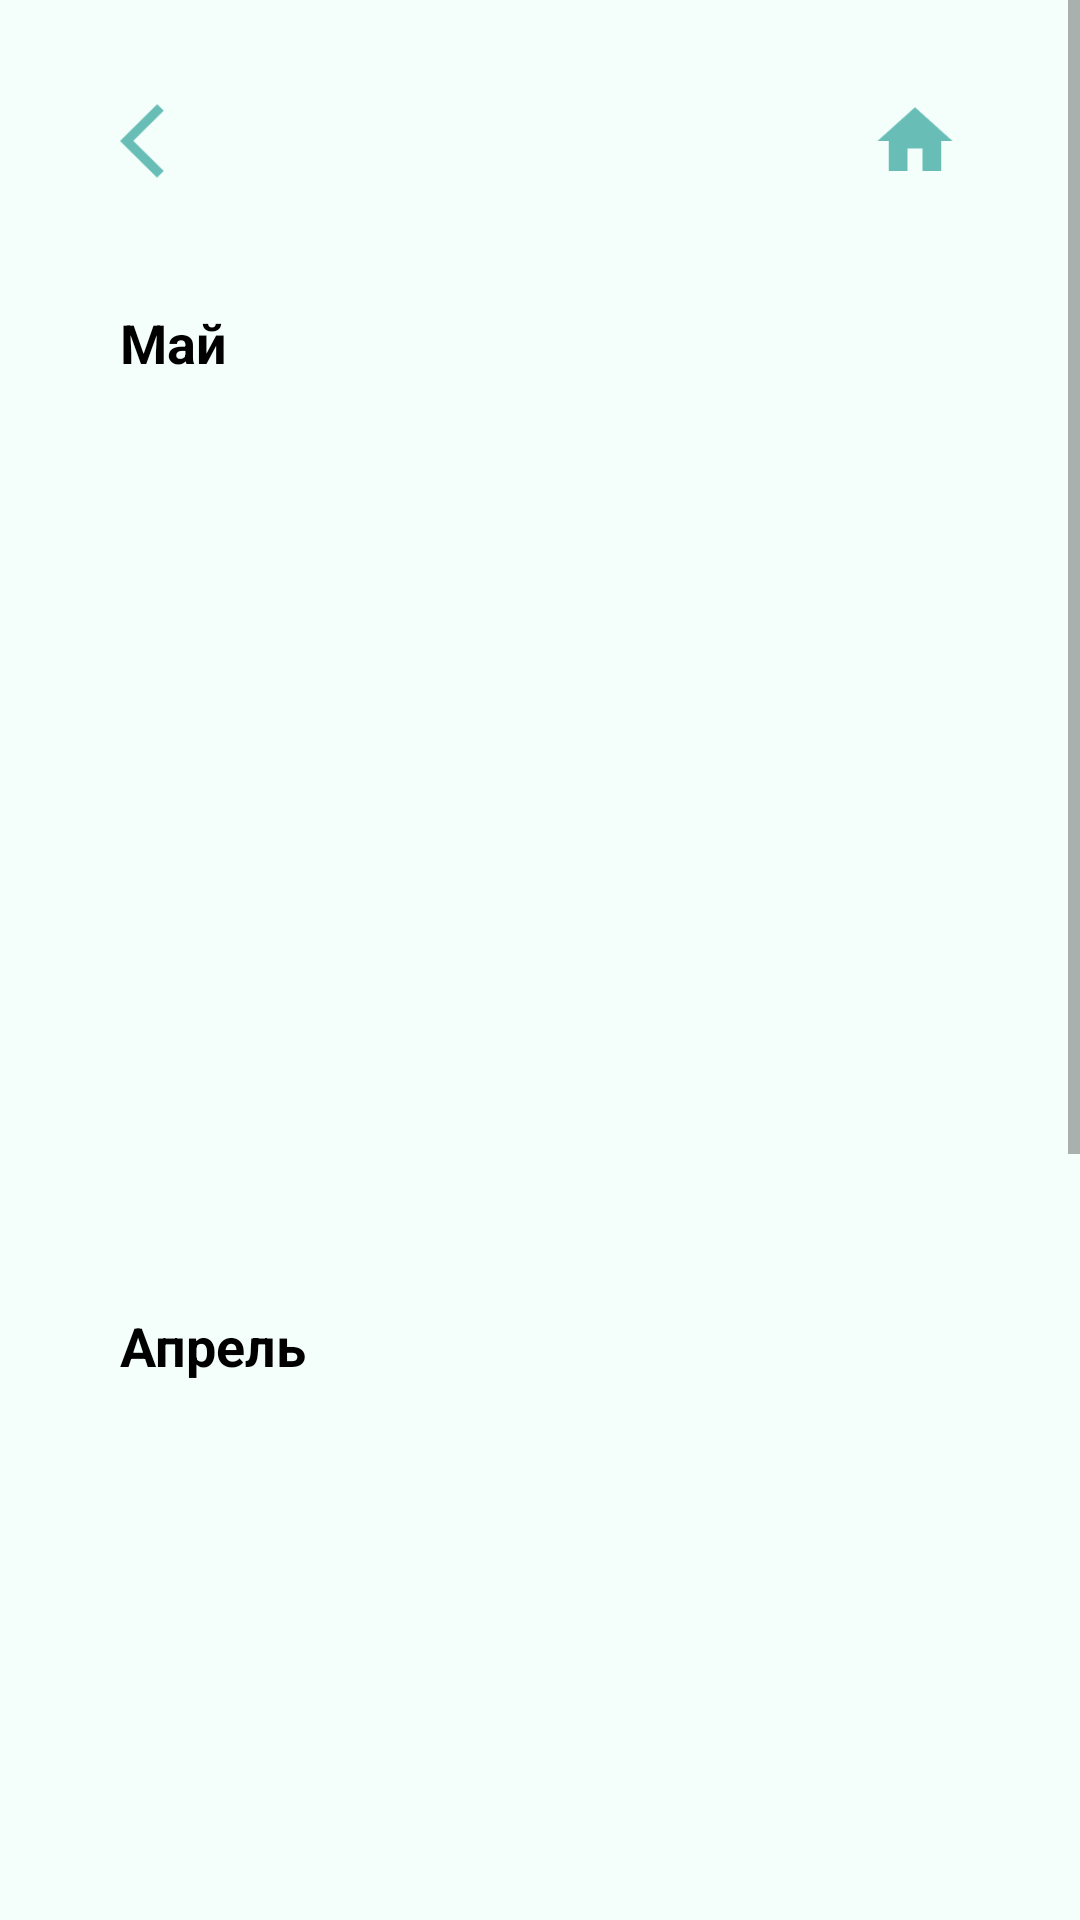

Icon bounding boxes for this 1080w x 1920h phone screenshot, format [x1, y1, x2, y2]:
back arrow: [120, 104, 164, 178]
home: [877, 107, 953, 171]
